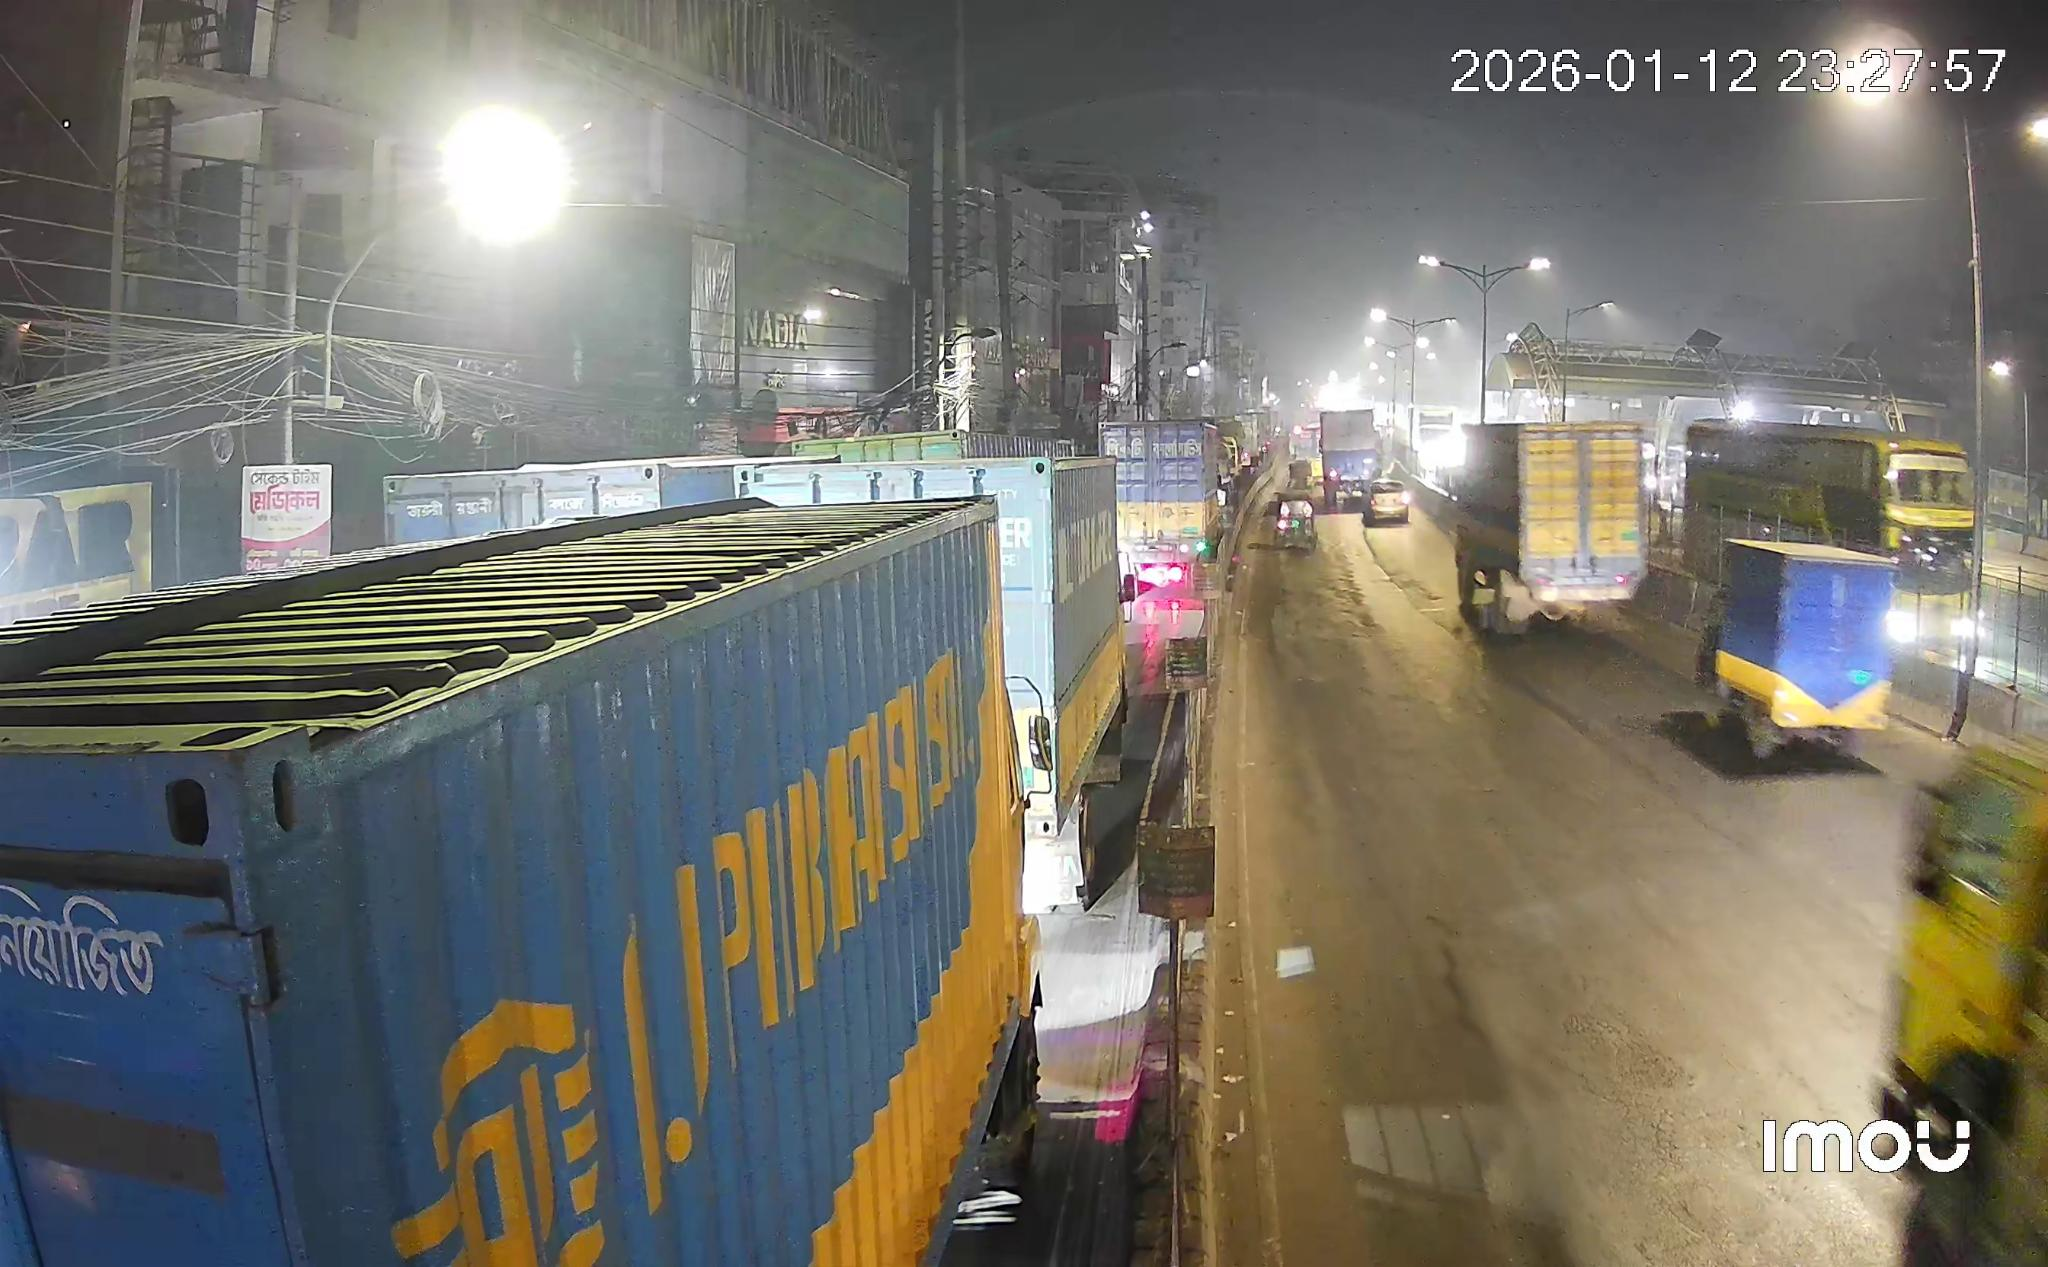Bus: (1682, 420, 1975, 612)
CNG-Tempo: (1276, 499, 1315, 552)
Private-Sedan Car: (1363, 478, 1410, 524)
Truck: (0, 499, 1059, 1267), (752, 456, 1128, 913), (1856, 742, 2047, 1267), (1432, 423, 1649, 636), (1693, 540, 1893, 761), (1099, 418, 1221, 597)
